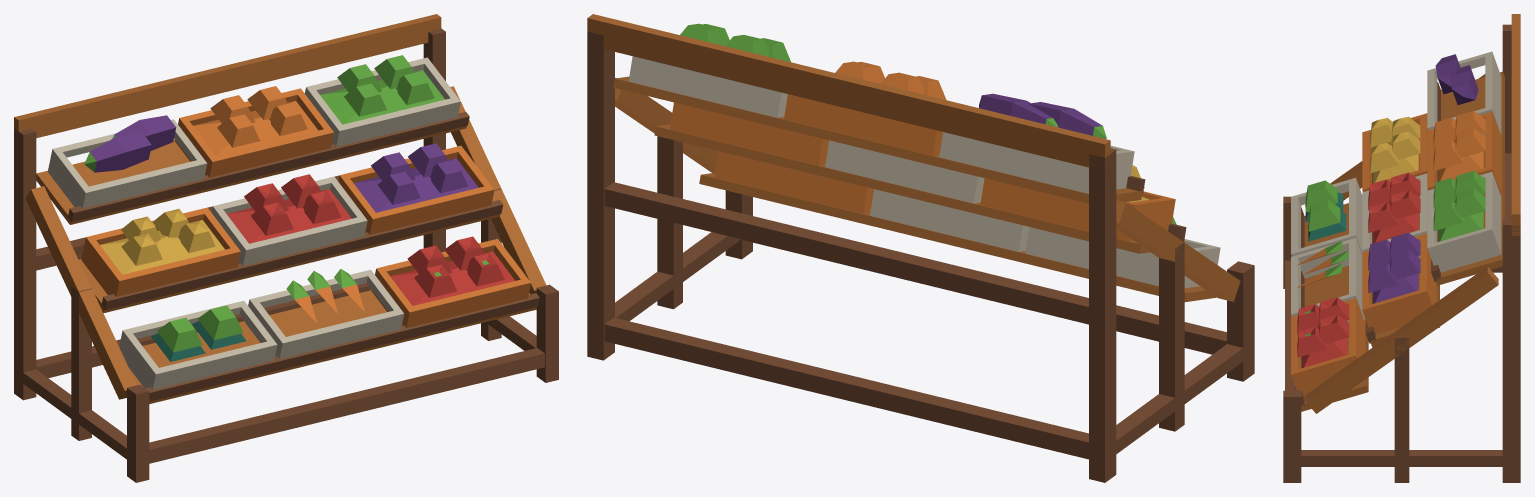
File: manav_tezgahi.glb
3 renders of one model, left to right at view 1: azimuth 30°, elevation 25°; view 2: azimuth 150°, elevation 25°; view 3: azimuth 270°, elevation 25°, orthographic. The views are drawn at different scales.
Parts seen in each view (by area): view 1: manav_tezgahi; view 2: manav_tezgahi; view 3: manav_tezgahi.
Boxes of the visible parts, x1,y1,x2,y2 form: manav_tezgahi: (14,14,558,482); manav_tezgahi: (587,14,1254,482); manav_tezgahi: (1283,14,1520,482).
Bounding box in the file's own units: 1.6 × 1 × 0.8.
